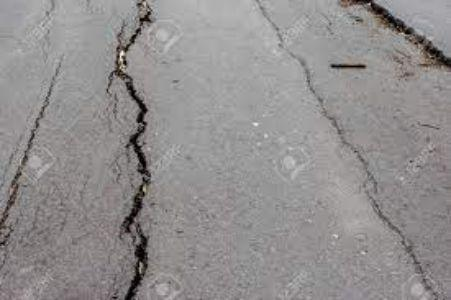crack: (103, 0, 158, 300), (0, 0, 65, 244)
